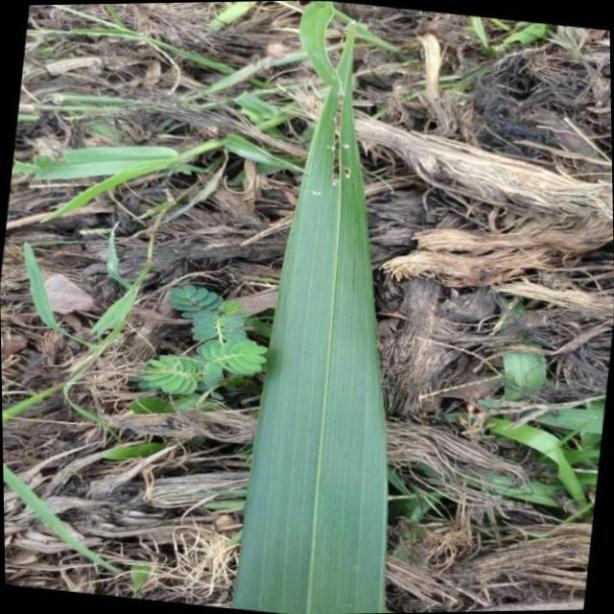Boron: (231, 7, 386, 614)
